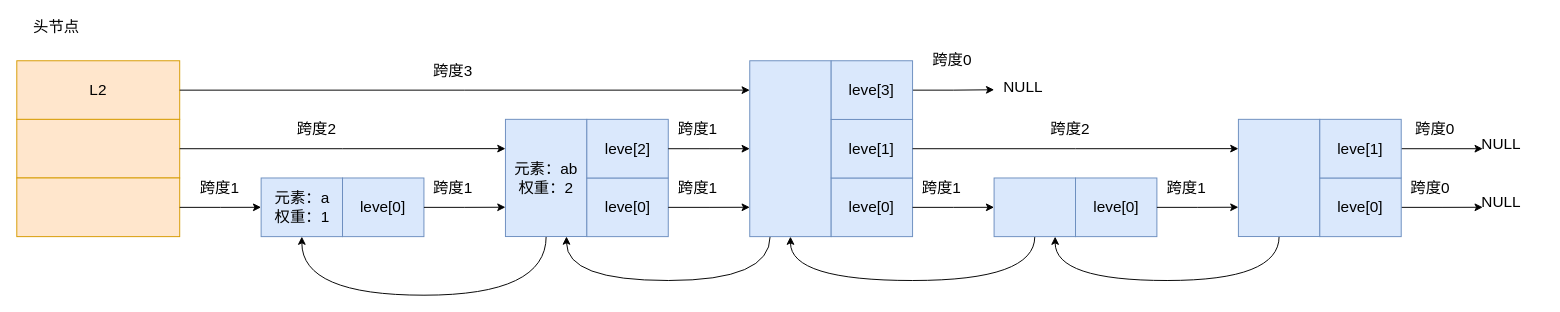
Some shapes in this 1560 by 312 pixel diagram are drawn without their labels. The centre of each missing label's shape, as x and y in pixels:
"L0" belongs at point 98,207.
"L1" belongs at point 98,148.
"元素：abc 权重：3" belongs at point 790,148.
"元素：abcd 权重：4" belongs at point 1034,207.
"元素：abcde 权重：4" belongs at point 1278,177.
